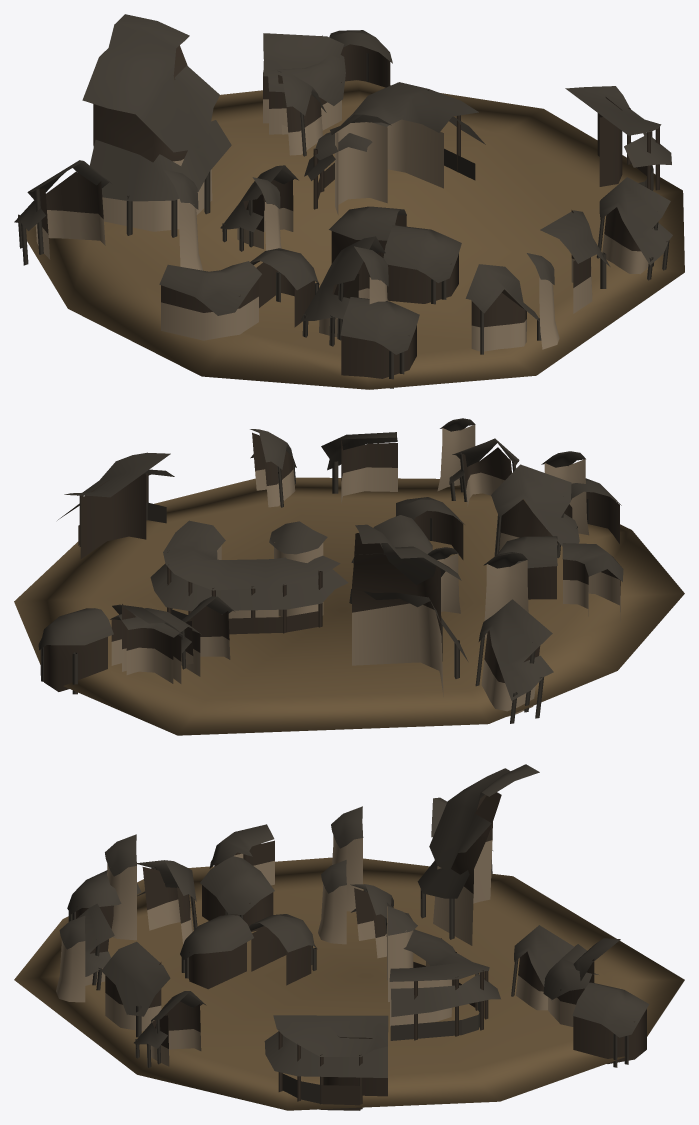
File: workhut.glb
3 renders of one model, top to bottom at view 1: azimuth 30°, elevation 25°; view 2: azimuth 150°, elevation 25°; view 3: azimuth 270°, elevation 25°, orthographic. The views are drawn at different scales.
Parts seen in each view (by area): view 1: Worker_Residence_Ground, store-square.012, triangular-market.007, house-3.003, house-2.002, house-5.001, house-2.006, roofed-market.014, house-5.002, house-2.005, house-2.001, house-3.001 (+11 smaller); view 2: Worker_Residence_Ground, triangular-market.007, store-square.012, house-2.002, roofed-market.014, house-2.001, house-5.004, house-3.001, house-1.034, house-3.003, house-2.005, house-2.006 (+10 smaller); view 3: Worker_Residence_Ground, roofed-market.014, triangular-market.007, store-square.012, house-5.004, house-1.034, house-5.002, house-5.012, house-2.001, house-5.003, house-2.006, house-2.004 (+10 smaller).
Boxes of the visible parts, x1,y1,x2,y2 form: Worker_Residence_Ground: (26, 80, 684, 389); store-square.012: (82, 14, 231, 237); triangular-market.007: (304, 82, 485, 214); house-3.003: (159, 261, 280, 340); house-2.002: (14, 160, 112, 265); house-5.001: (340, 297, 419, 388); house-2.006: (596, 177, 672, 280); roofed-market.014: (565, 86, 671, 190); house-5.002: (383, 225, 461, 304); house-2.005: (465, 264, 541, 354); house-2.001: (300, 236, 385, 346); house-3.001: (267, 54, 345, 134); Worker_Residence_Ground: (14, 477, 684, 735); triangular-market.007: (150, 520, 348, 634); store-square.012: (349, 524, 468, 696); house-2.002: (475, 599, 553, 723); roofed-market.014: (57, 452, 174, 558); house-2.001: (491, 464, 579, 558); house-5.004: (38, 608, 113, 691); house-3.001: (72, 608, 201, 694); house-1.034: (321, 432, 397, 503); house-3.003: (562, 543, 623, 621); house-2.005: (449, 438, 519, 506); house-2.006: (250, 429, 296, 507); Worker_Residence_Ground: (14, 857, 684, 1110); roofed-market.014: (264, 1015, 388, 1110); triangular-market.007: (386, 902, 500, 1040); store-square.012: (417, 764, 539, 945); house-5.004: (572, 982, 649, 1067); house-1.034: (101, 941, 170, 1037); house-5.002: (180, 915, 253, 989); house-5.012: (200, 856, 274, 931); house-2.001: (137, 860, 197, 944); house-5.003: (249, 914, 317, 985); house-2.006: (134, 991, 206, 1067); house-2.004: (511, 925, 574, 1010).
Bounding box in the file's own units: 1.59 × 0.4826 × 1.77.
